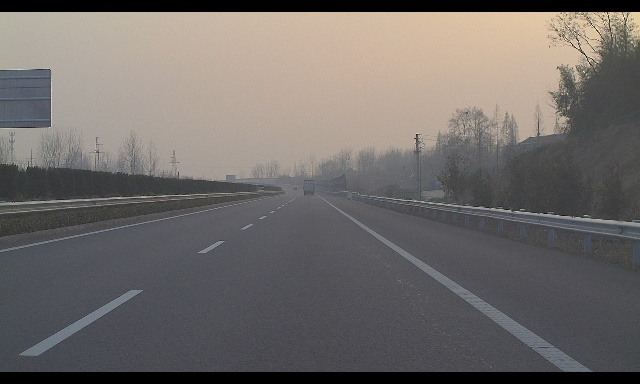truck: (303, 180, 315, 196), (226, 175, 235, 185)
